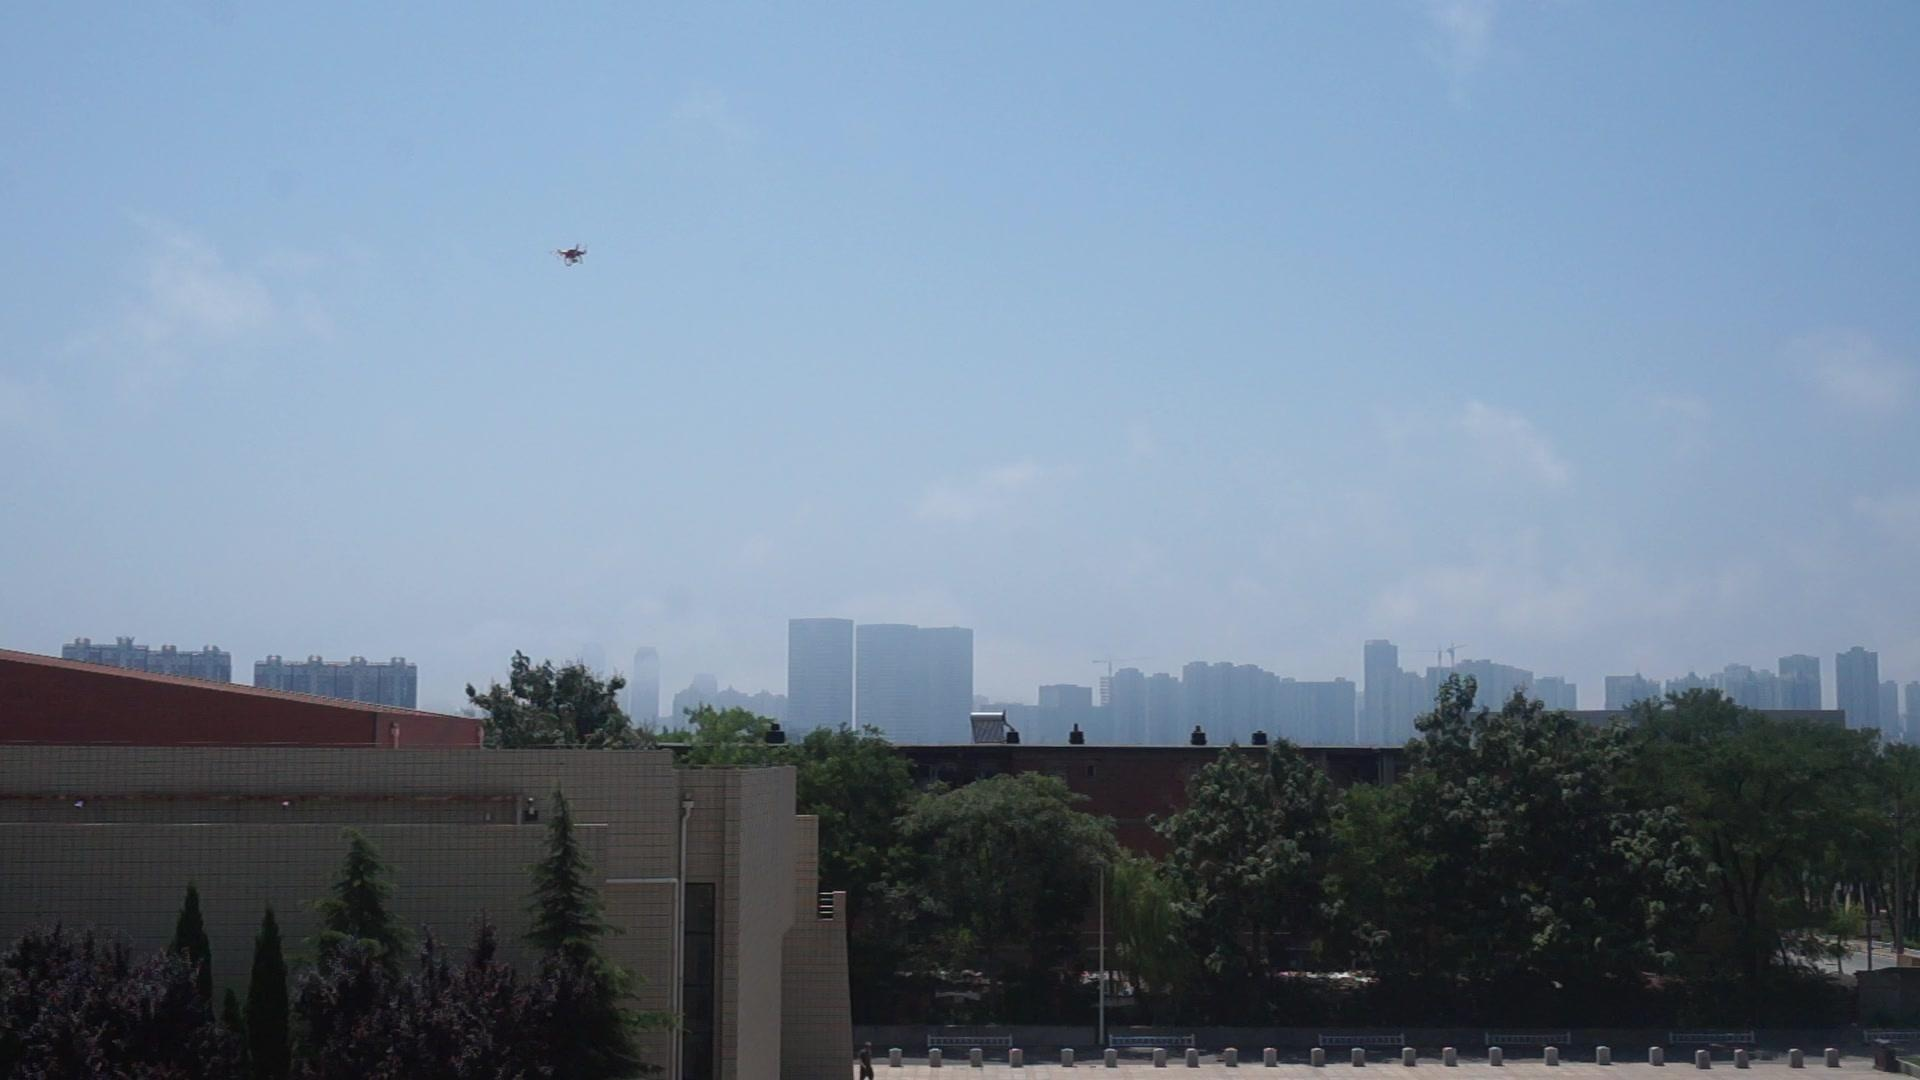UAV: (546, 243, 589, 268)
